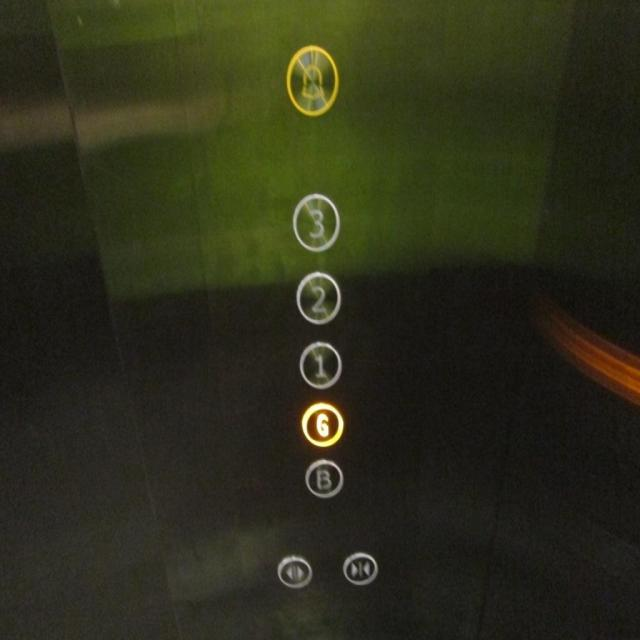1: (299, 339, 343, 392)
2: (294, 266, 342, 326)
3: (292, 190, 341, 256)
B: (304, 457, 344, 501)
G: (300, 400, 344, 450)
alarm: (284, 43, 340, 119)
close: (341, 551, 378, 587)
open: (272, 552, 314, 592)
